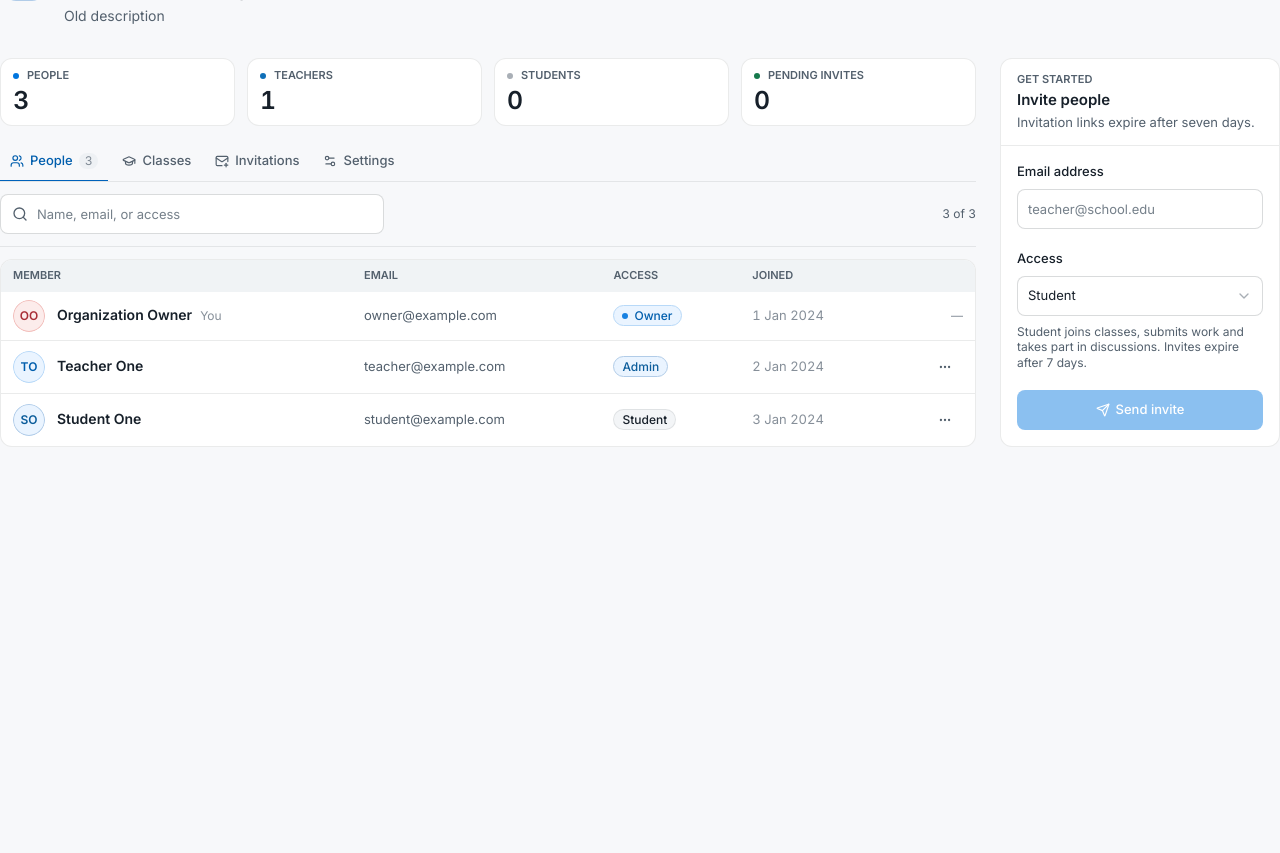
it: OrganizationAdminClient › saves organization identity changes from the settings tab
Click the tab "Settings".
click(359, 162)  # box [314,142,404,182]
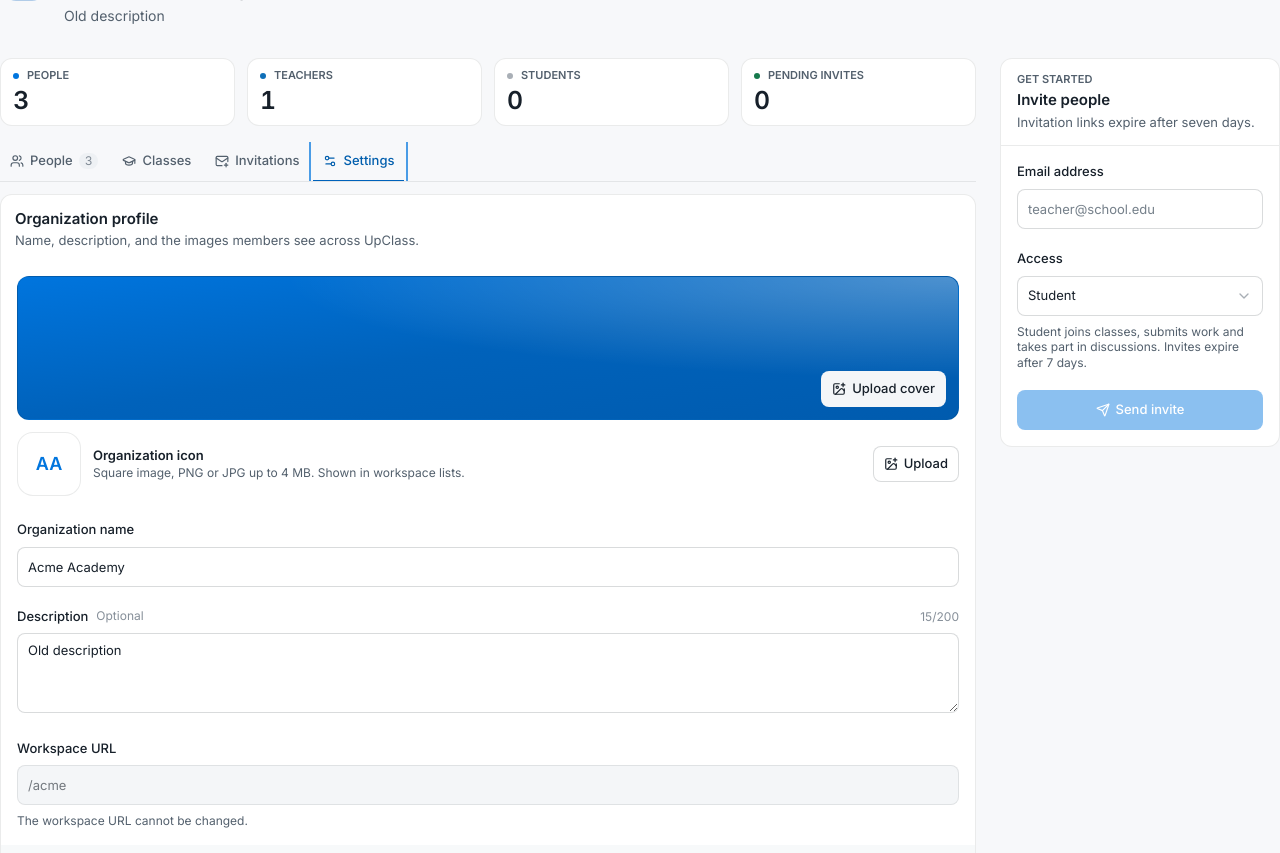
Check: the field labelled "Organization name" holds "Acme Academy"
Check: the text box labelled "Description Optional" holds "Old description", box [17,633,959,713]
Replace the text in the field labelled "Organization name" with "Acme Academy West" at (488, 566), box [17,546,959,586]
(page scrolled)
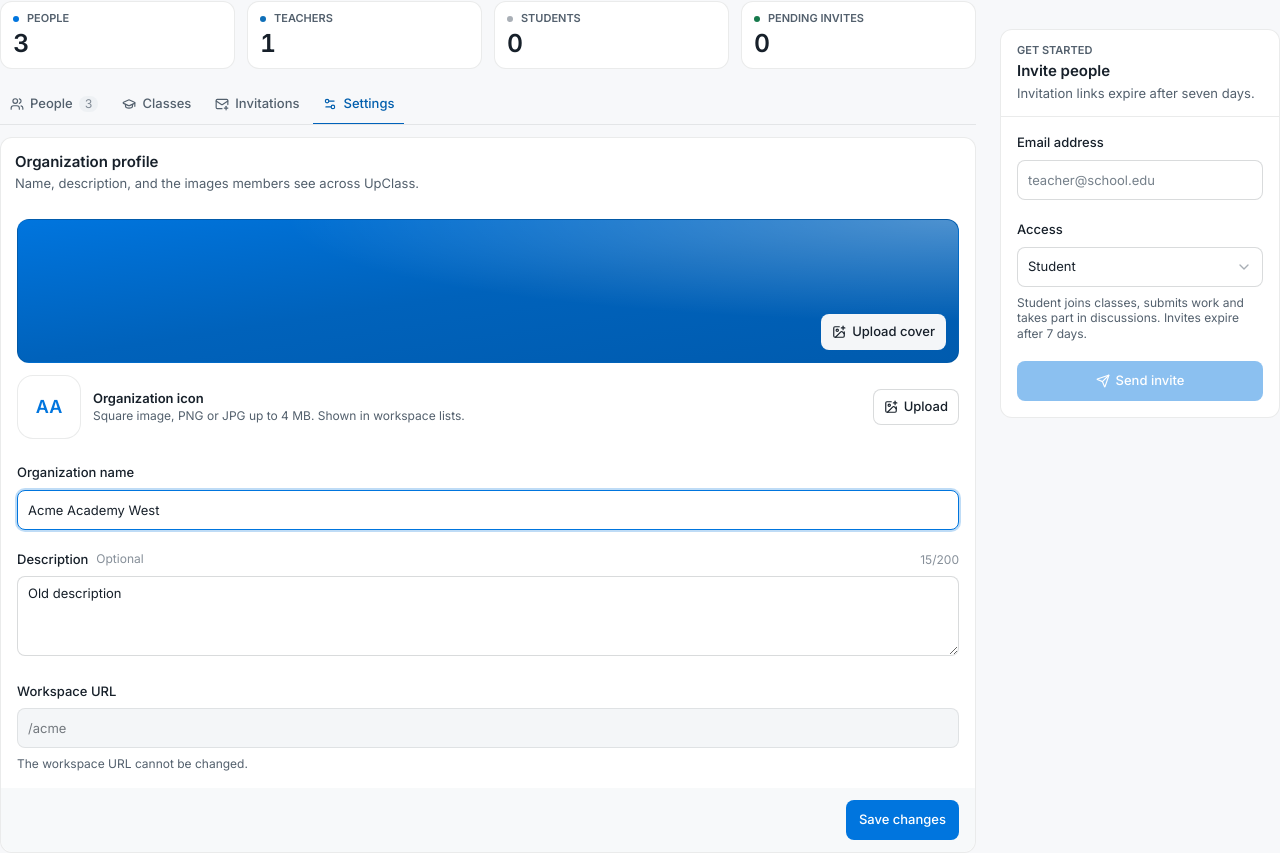
Click the button "Save changes".
click(902, 820)  # box [846,800,959,840]
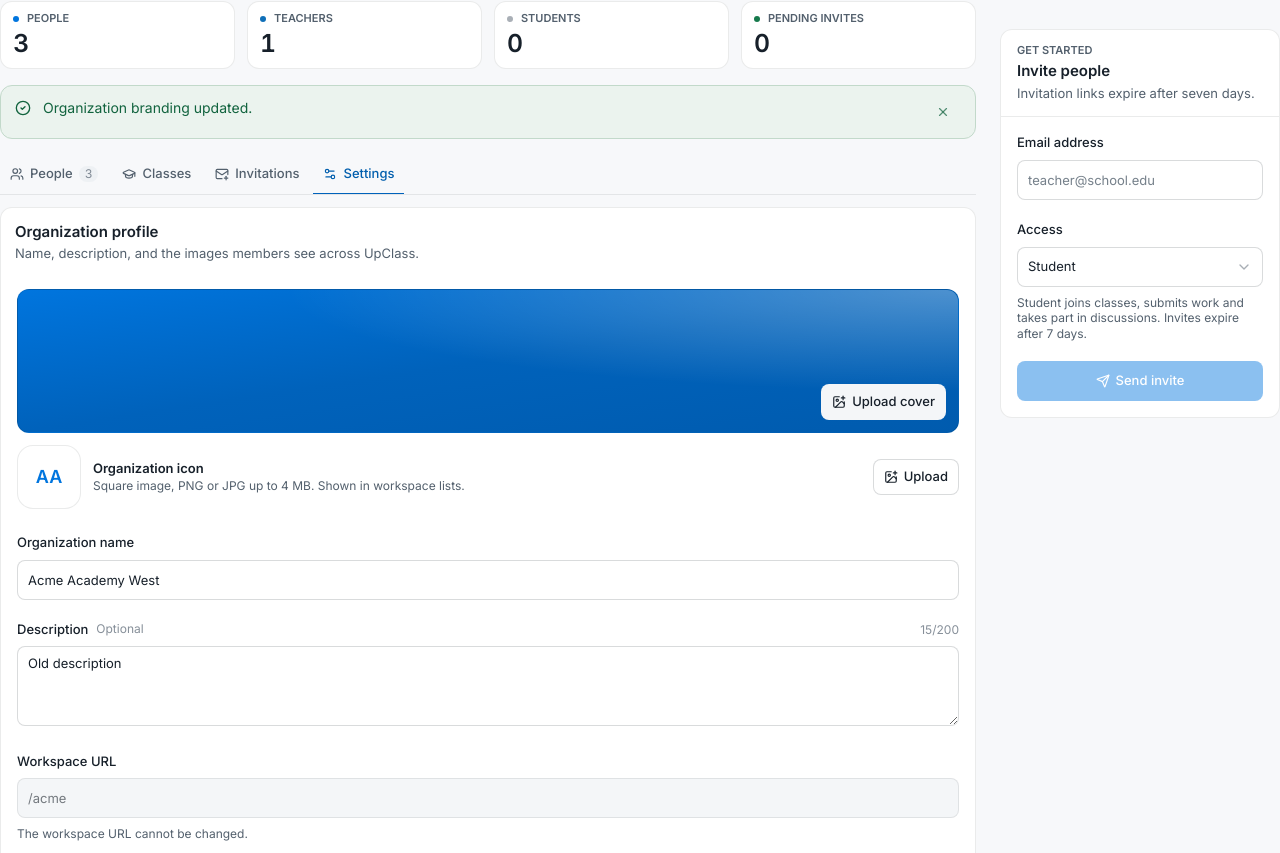
Check: the text "Organization branding updated." is shown, box [43,99,252,116]
